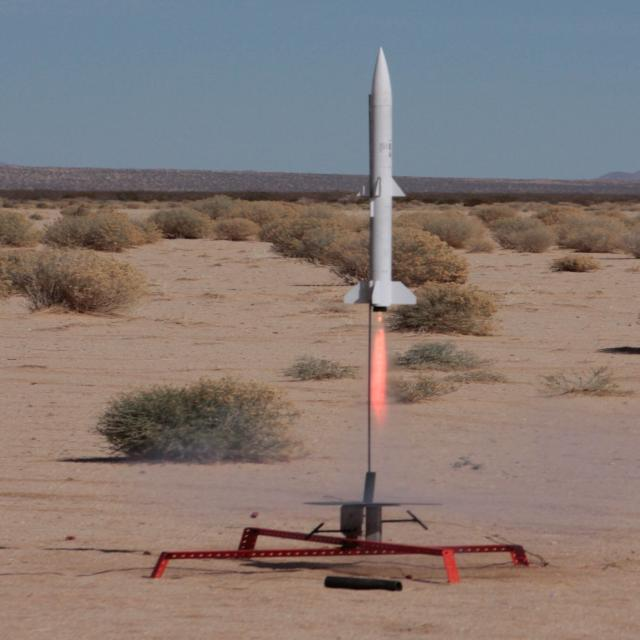Rocket: (340, 45, 421, 313)
